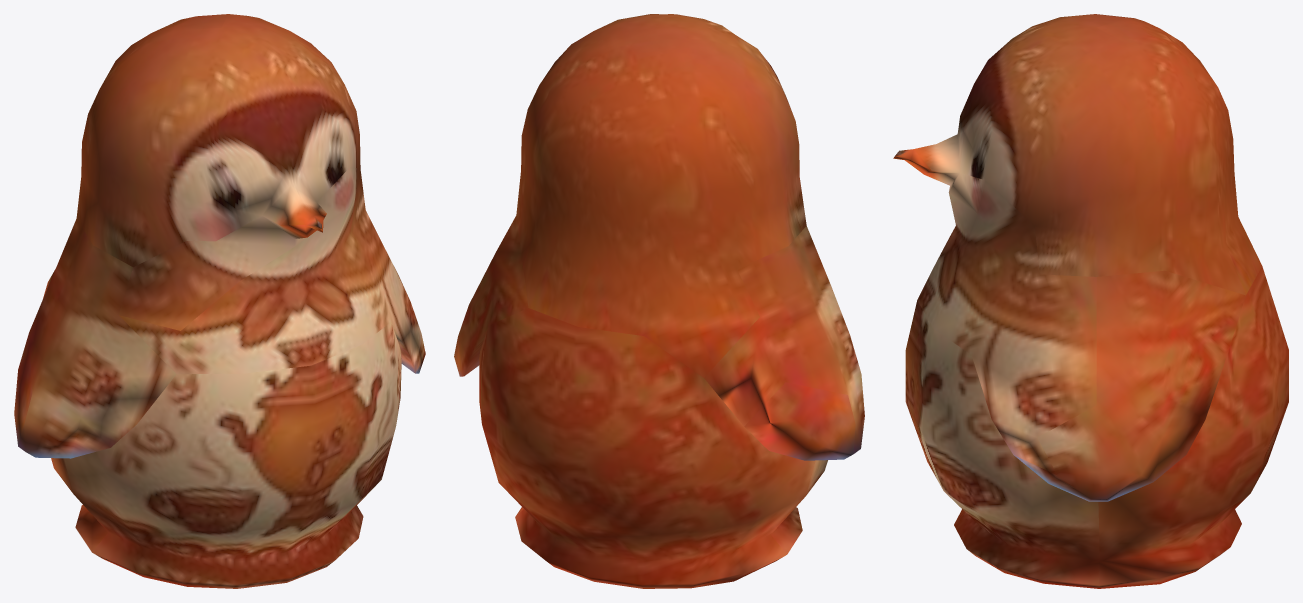
Rendered from penguin-06-43-tea-samovar-penguin-doll.gltf.
3 renders of one model, left to right at view 1: azimuth 30°, elevation 25°; view 2: azimuth 150°, elevation 25°; view 3: azimuth 270°, elevation 25°, orthographic.
Parts seen in each view (by area): view 1: penguin-06-43-tea-samovar-penguin-doll; view 2: penguin-06-43-tea-samovar-penguin-doll; view 3: penguin-06-43-tea-samovar-penguin-doll.
Boxes of the visible parts, x1,y1,x2,y2 form: penguin-06-43-tea-samovar-penguin-doll: [14, 14, 425, 588]; penguin-06-43-tea-samovar-penguin-doll: [454, 14, 864, 588]; penguin-06-43-tea-samovar-penguin-doll: [893, 14, 1288, 588].
Bounding box in the file's own units: 0.2 × 0.2514 × 0.173.
1 material, 1 textured.
